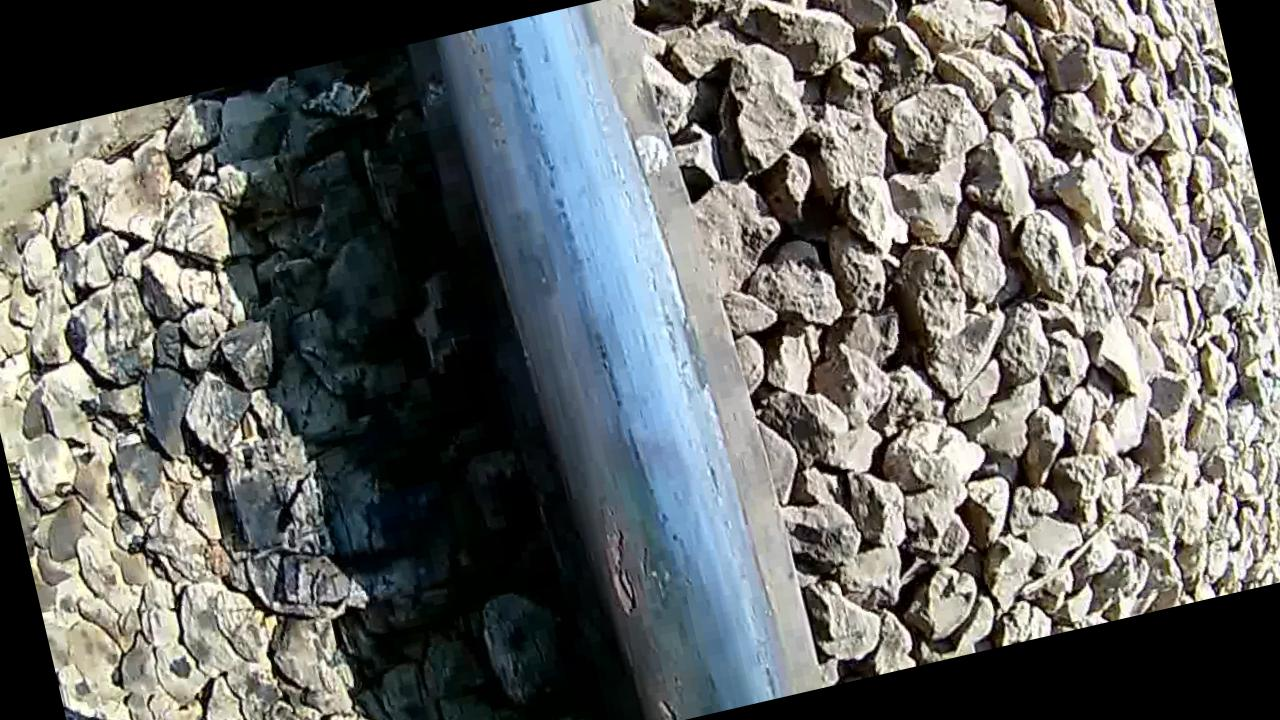crack: (433, 0, 778, 720)
